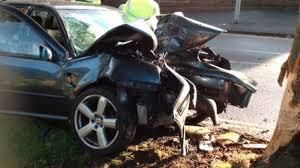bonnet-dent: (101, 16, 214, 64)
fender-dent: (72, 62, 129, 97)
